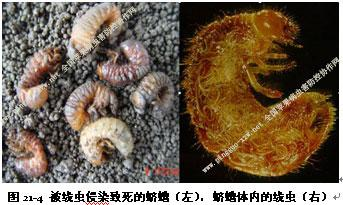grub: (76, 118, 143, 169)
